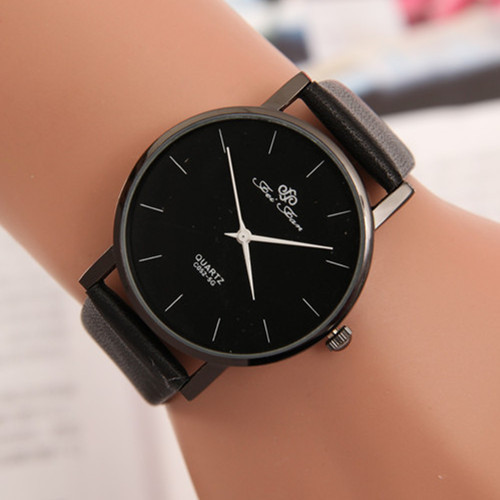clock: (127, 116, 365, 358)
